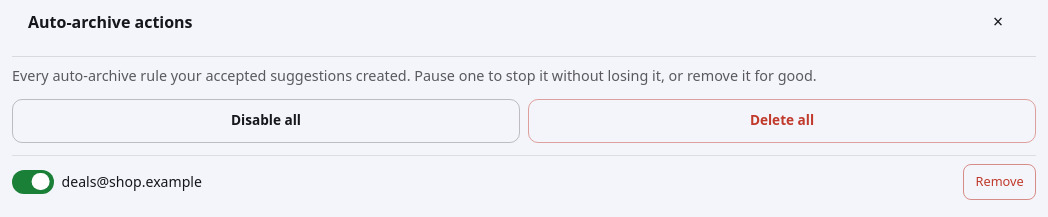
AutomationActionsPanel › removes a single rule
The width and height of the screenshot is (1048, 217).
Click the button with aria-label "remove auto-archive rule for deals@shop.example" at (1000, 182), box x1=963 y1=164 x2=1036 y2=200
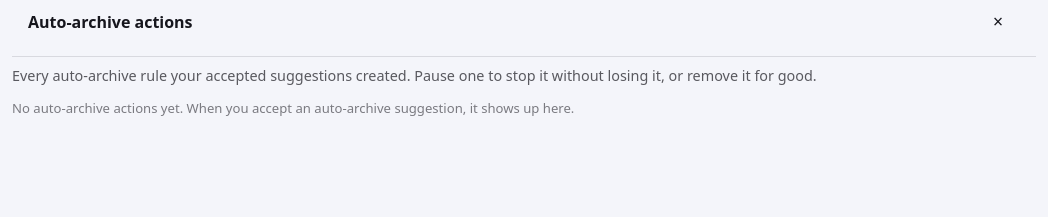
Result: the text "deals@shop.example" is gone
